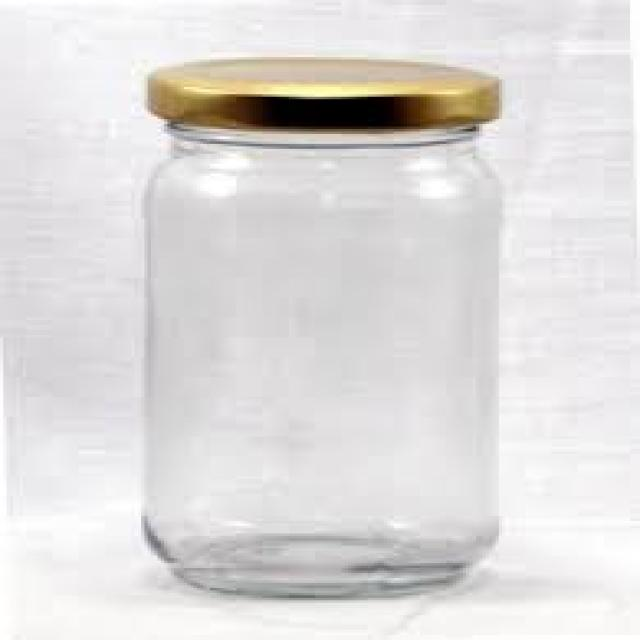Dry Waste: (133, 54, 516, 606)
